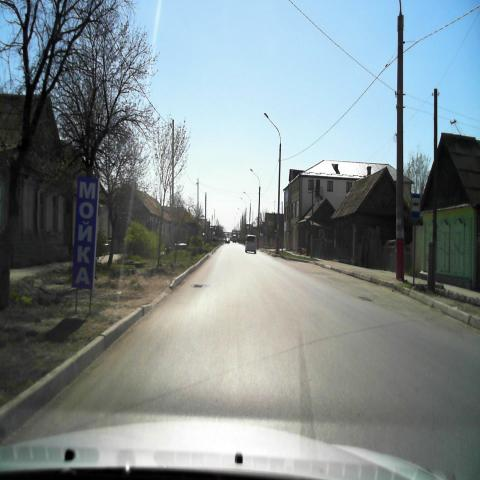5_16: (411, 191, 421, 217)
